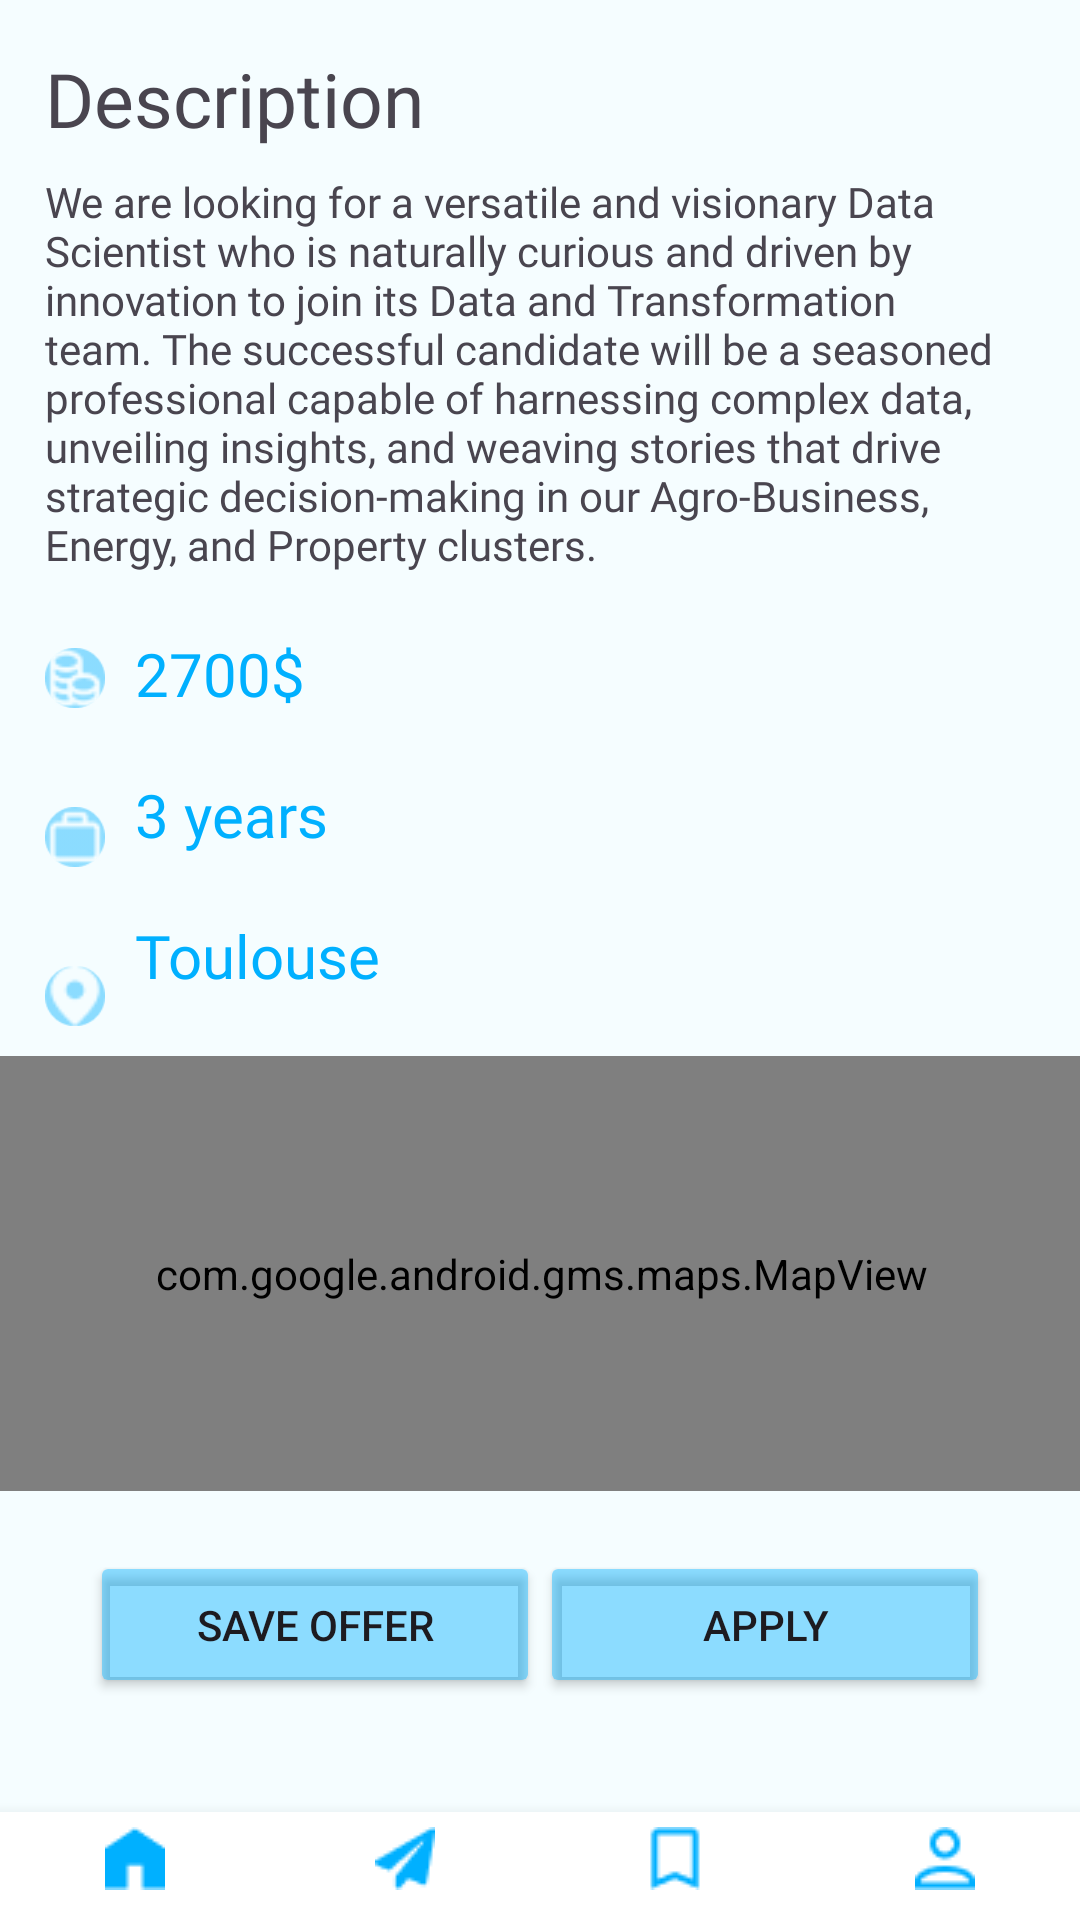

Screen size 1080px×1920px. Icon name, then its box in pixels as [left=x1, top=y1, right=x2, bottom=y2]:
bag 1duree: [left=45, top=807, right=105, bottom=867]
coins 2salaire: [left=45, top=648, right=105, bottom=708]
home: [left=105, top=1827, right=165, bottom=1890]
location pincity: [left=45, top=967, right=105, bottom=1026]
message: [left=375, top=1827, right=435, bottom=1890]
profil: [left=915, top=1827, right=975, bottom=1890]
